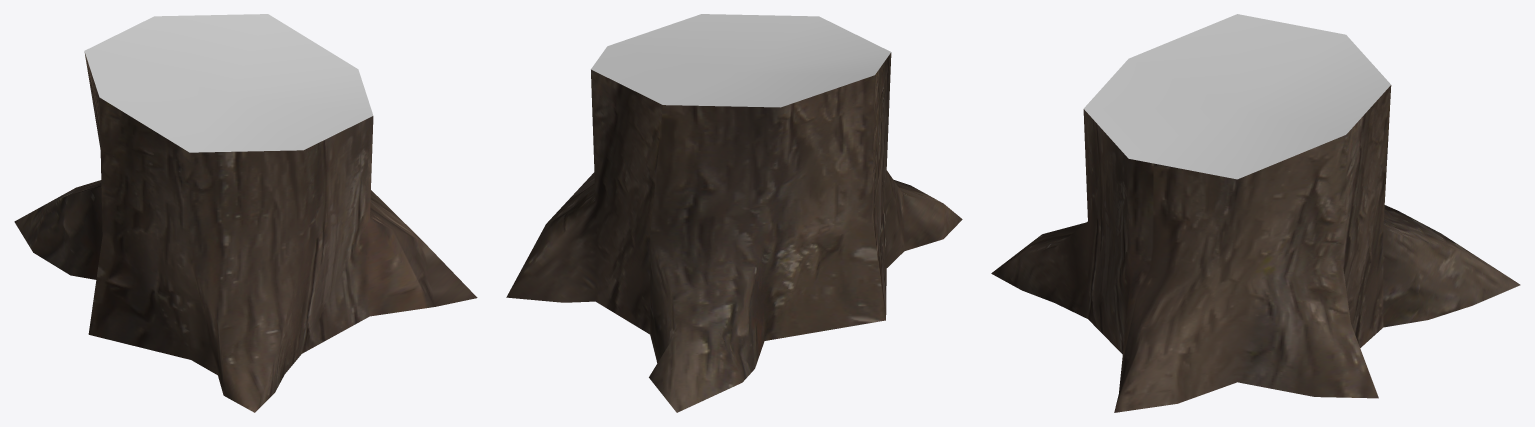
File: Tree_dead_4.FBX
The picture shows the model from 3 angles, left to right: view 1: azimuth 30°, elevation 25°; view 2: azimuth 150°, elevation 25°; view 3: azimuth 270°, elevation 25°; orthographic projection. The views are drawn at different scales.
Parts seen in each view (by area): view 1: polySurface585, Object001; view 2: polySurface585, Object001; view 3: polySurface585, Object001.
Boxes of the visible parts, <box> form: polySurface585: <box>14,52,477,412</box>; Object001: <box>84,14,373,152</box>; polySurface585: <box>506,52,962,412</box>; Object001: <box>591,14,890,107</box>; polySurface585: <box>991,85,1520,412</box>; Object001: <box>1083,14,1390,179</box>.
Bounding box in the file's own units: 33.42 × 23.47 × 45.52.
